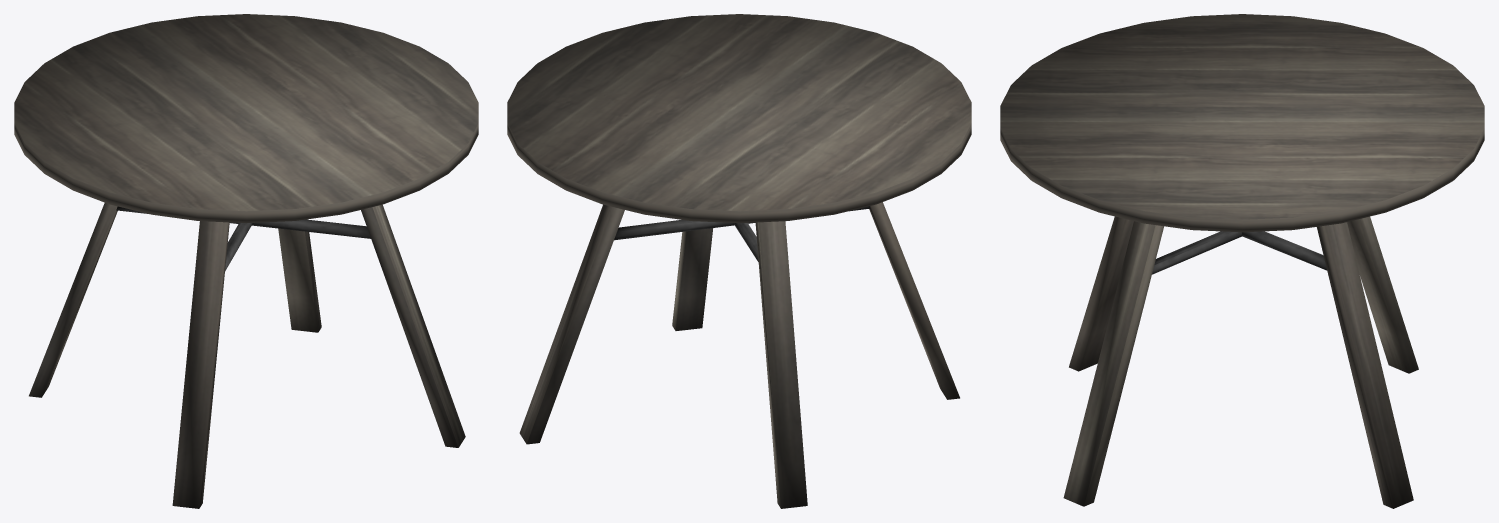
File: cb-scholartable_baked.glb
The picture shows the model from 3 angles, left to right: view 1: azimuth 30°, elevation 25°; view 2: azimuth 150°, elevation 25°; view 3: azimuth 270°, elevation 25°; orthographic projection. The views are drawn at different scales.
Parts seen in each view (by area): view 1: Mesh_0.023; view 2: Mesh_0.023; view 3: Mesh_0.023.
Part boxes in pixels (x1=…): Mesh_0.023: x1=14, y1=14, x2=478, y2=508; Mesh_0.023: x1=507, y1=14, x2=971, y2=508; Mesh_0.023: x1=1000, y1=14, x2=1484, y2=508.
Bounding box in the file's own units: 106 × 76.16 × 106.
Materials: 1 (1 with a texture image).
